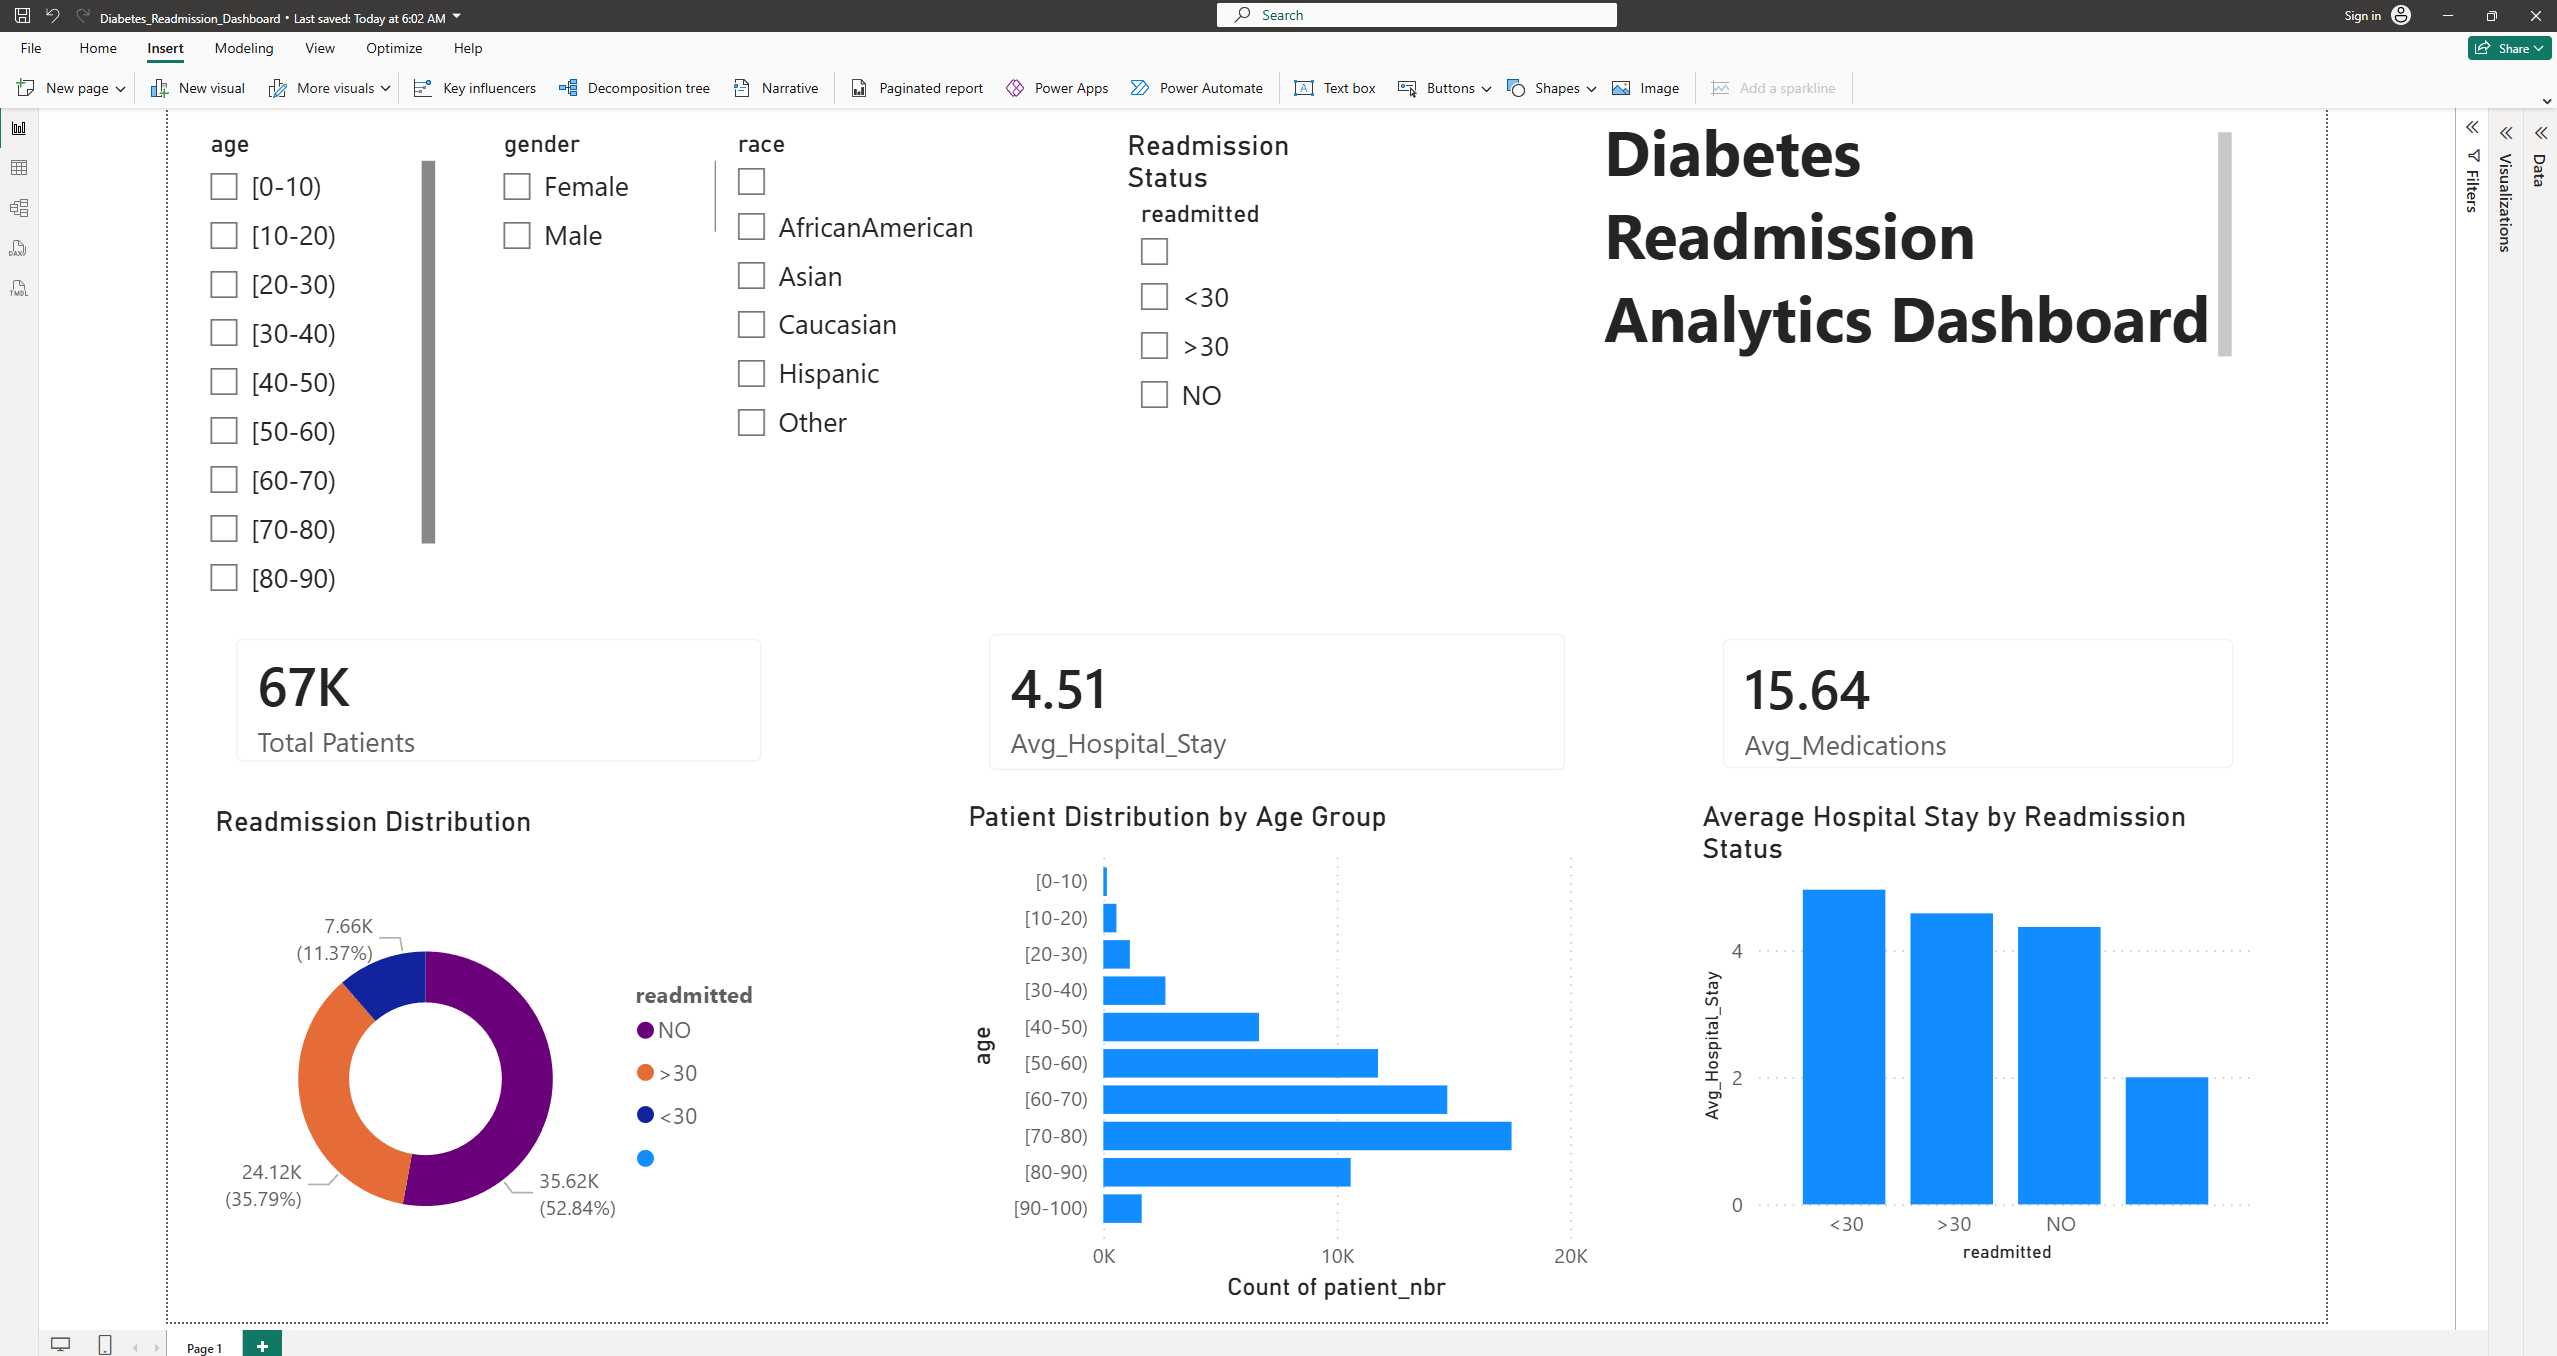

The dashboard page shown, as its layout file describes it:
{"tool":"powerbi","page":{"name":"Page 1","canvas":[1280,720],"ordinal":0},"visuals":[{"type":"cardVisual","fields":{"Data":["diabetes_powerbi.Total Patients"]},"box":[22.9,297.8,346.2,108],"z":0},{"type":"cardVisual","fields":{"Data":["diabetes_powerbi.Avg_Hospital_Stay"]},"box":[469.9,294.5,376.9,115.2],"z":1000},{"type":"cardVisual","fields":{"Data":["diabetes_powerbi.Avg_Medications"]},"box":[905,297.8,337.7,111.9],"z":2000},{"type":"donutChart","title":"Readmission Distribution","fields":{"Category":["diabetes_powerbi.readmitted"],"Y":["CountNonNull(diabetes_powerbi.readmitted)"]},"box":[22.9,412.9,346.2,306.9],"z":3000},{"type":"clusteredBarChart","title":"Patient Distribution by Age Group","fields":{"Category":["diabetes_powerbi.age"],"Y":["CountNonNull(diabetes_powerbi.patient_nbr)"]},"box":[469.9,409.7,376.9,302.3],"z":4000},{"type":"columnChart","title":"Average Hospital Stay by Readmission Status","fields":{"Category":["diabetes_powerbi.readmitted"],"Y":["diabetes_powerbi.Avg_Hospital_Stay"]},"box":[905,409.7,337.7,279.4],"z":4001},{"type":"textbox","box":[846.8,2.6,381.5,149.9],"z":4004},{"type":"slicer","fields":{"Values":["diabetes_powerbi.age"]},"box":[12.4,8.5,150.5,284.7],"z":4005},{"type":"slicer","fields":{"Values":["diabetes_powerbi.gender"]},"box":[186.5,8.5,150.5,89],"z":4006},{"type":"slicer","fields":{"Values":["diabetes_powerbi.race"]},"box":[325.2,8.5,190.4,251.9],"z":4007},{"type":"slicer","title":"Readmission Status","fields":{"Values":["diabetes_powerbi.readmitted"]},"box":[564.1,11.8,151.2,189.8],"z":4008}]}

Visuals, with their boxes on the page's 1280x720 design canvas (x1, y1, x2, y2). These are canvas units, not pixel positions in the 2557x1356 screenshot, which may show the page scaled, cropped or inside an application window:
cardVisual - diabetes_powerbi.Total Patients: 23,298,369,406
cardVisual - diabetes_powerbi.Avg_Hospital_Stay: 470,294,847,410
cardVisual - diabetes_powerbi.Avg_Medications: 905,298,1243,410
"Readmission Distribution" donutChart: 23,413,369,720
"Patient Distribution by Age Group" clusteredBarChart: 470,410,847,712
"Average Hospital Stay by Readmission Status" columnChart: 905,410,1243,689
textbox: 847,3,1228,152
slicer - diabetes_powerbi.age: 12,8,163,293
slicer - diabetes_powerbi.gender: 186,8,337,98
slicer - diabetes_powerbi.race: 325,8,516,260
"Readmission Status" slicer: 564,12,715,202
